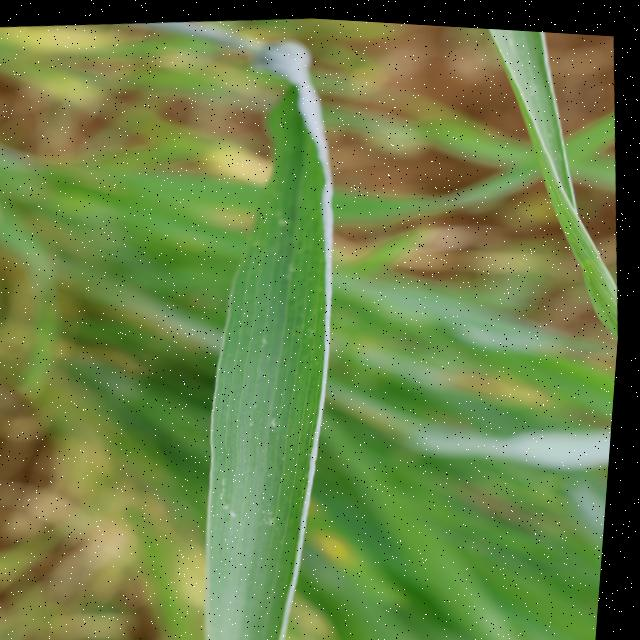healthy_wheat: (121, 16, 398, 640), (452, 22, 640, 348)
